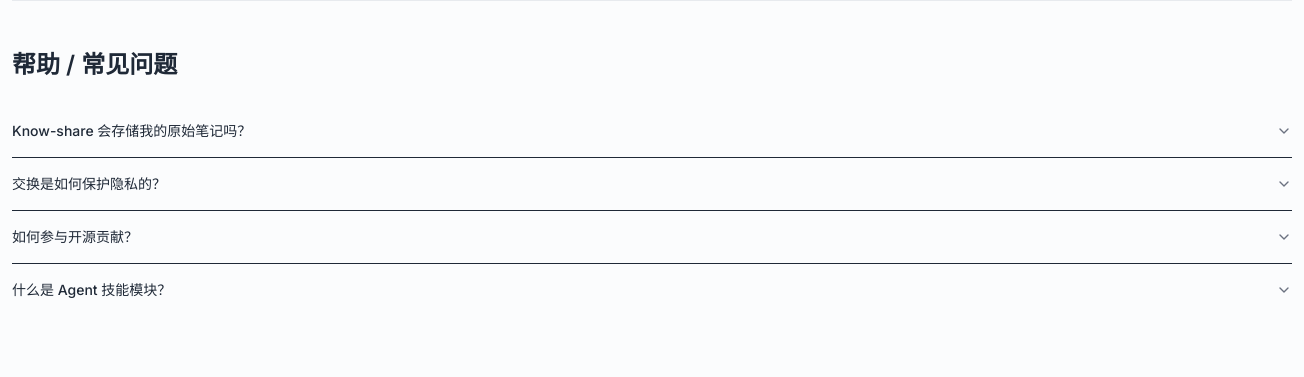
Test: AboutFaq（COMP-213 / PAGE-104） › 漂移守卫：隐私 / 交换答案不含 E2EE / 链上（展开后核对）
Click the button "交换是如何保护隐私的？" at [89, 184], box x1=12 y1=158 x2=1292 y2=210
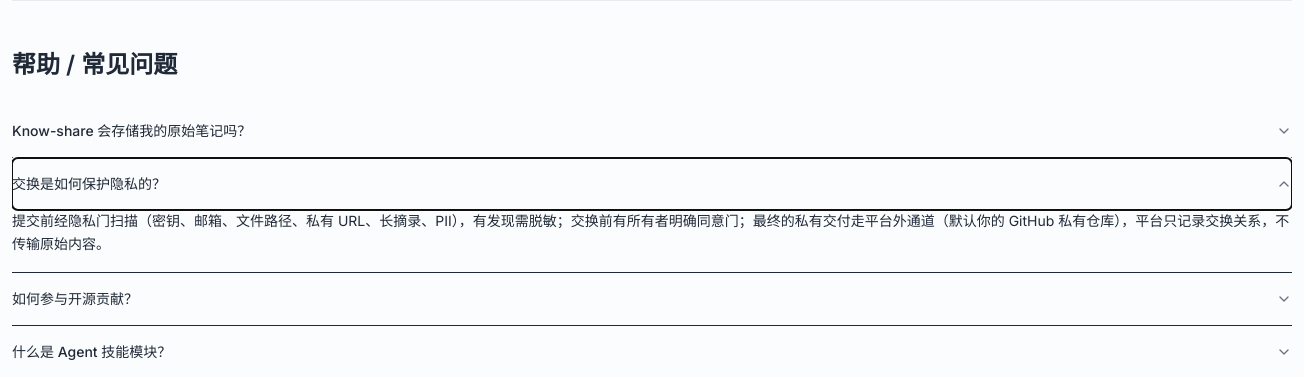
Expected: the text "隐私门扫描" is shown, x1=12 y1=212 x2=1289 y2=252
